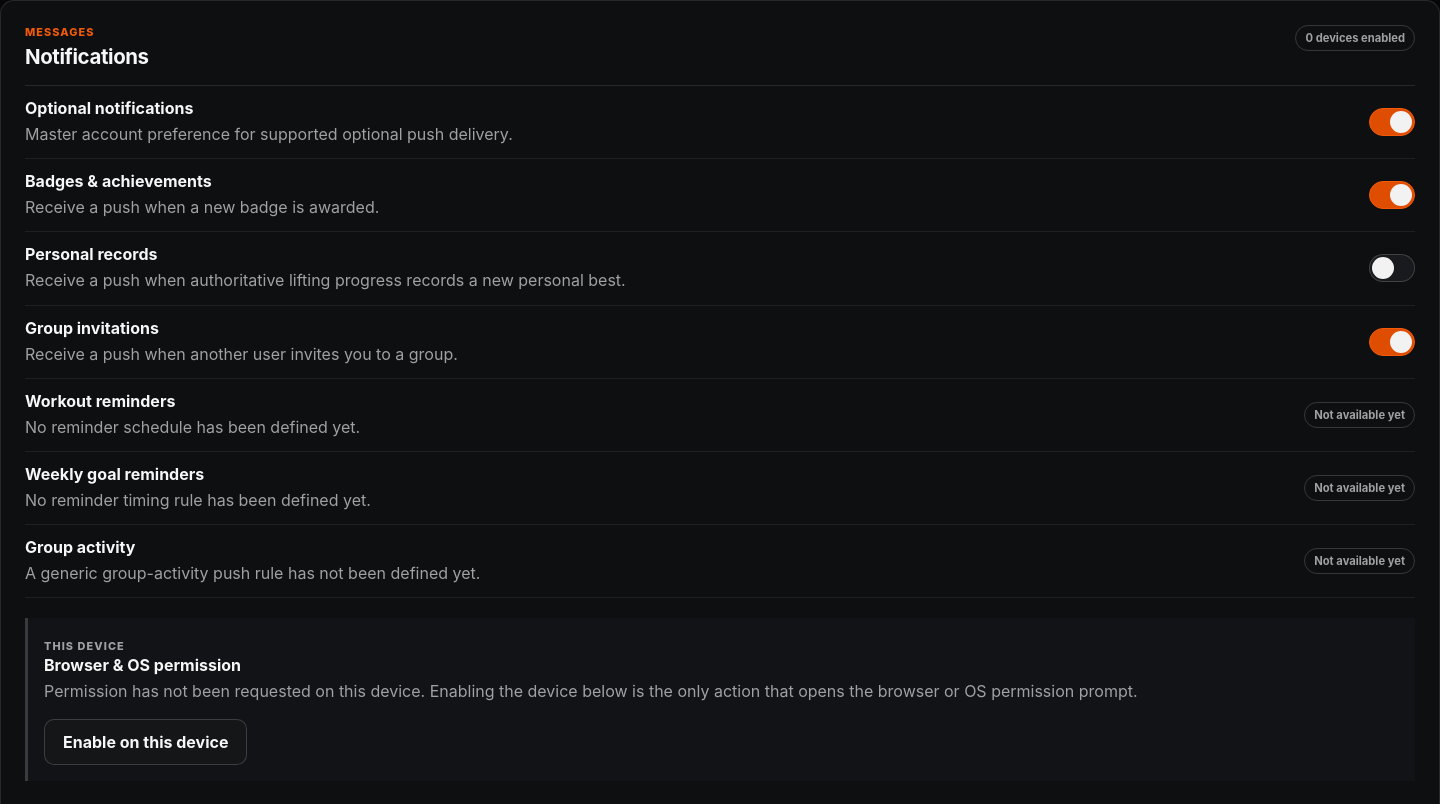
Phase 15.6D Settings integration gate › requests default-state notification permission only after the explicit device action
expect the text "Permission has not been requested on this device" is shown: met, box [44,681,1138,701]
Click the button "Enable on this device" at (146, 742), box [44,719,247,765]
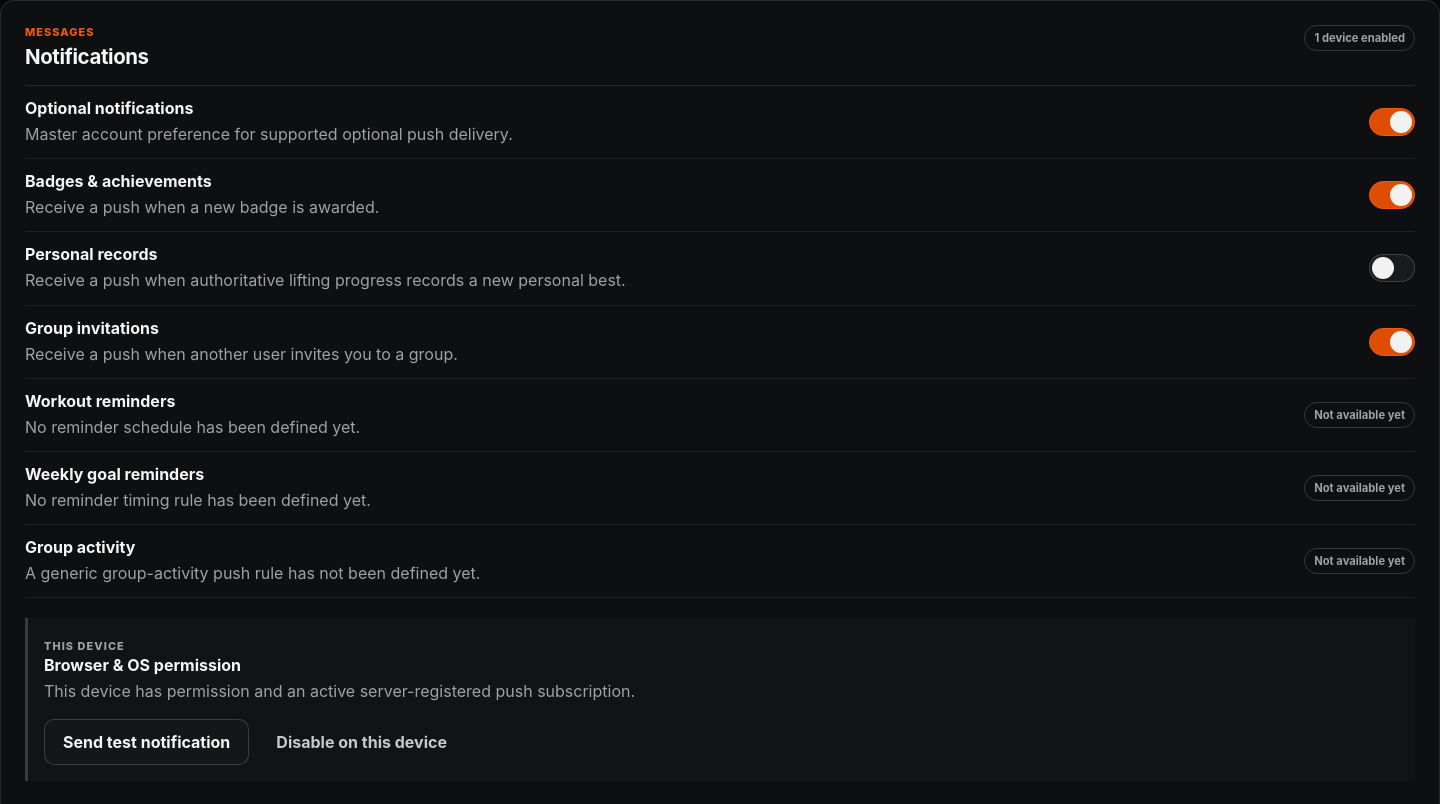
expect the text "active server-registered push subscription" is shown: met, box [44,681,635,701]
